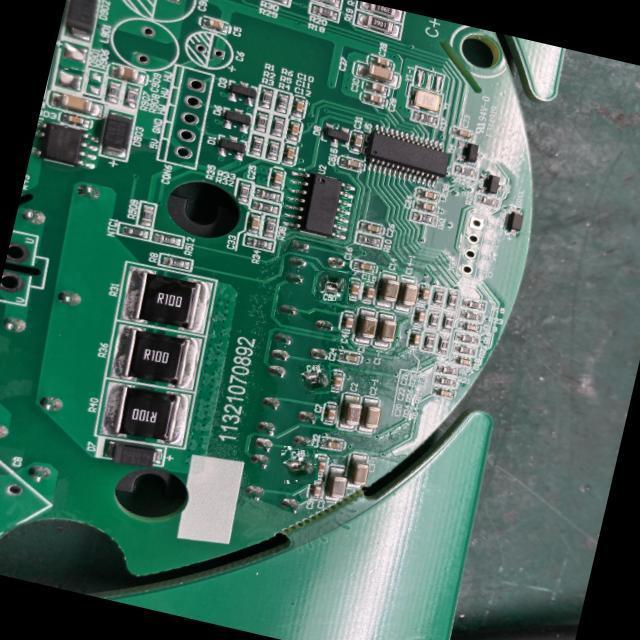damged: (282, 448, 316, 482), (316, 270, 348, 303), (301, 363, 330, 393)
